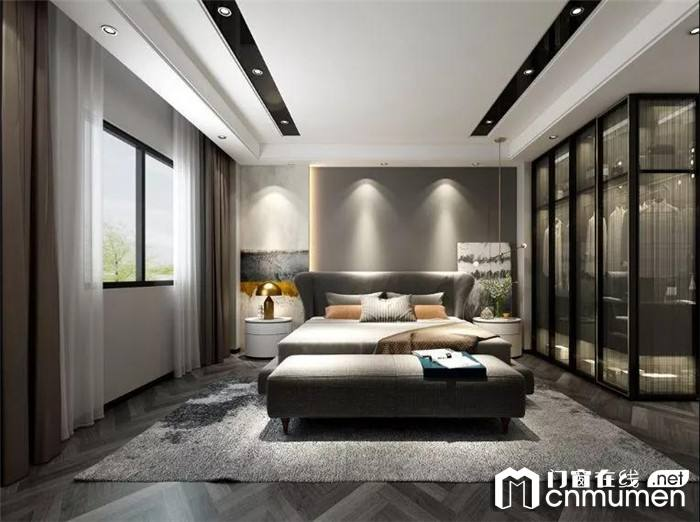床: (279, 322, 518, 437)
枕头: (321, 290, 443, 326)
灯: (253, 281, 279, 324), (96, 23, 117, 37), (683, 26, 699, 38), (218, 133, 229, 144)
